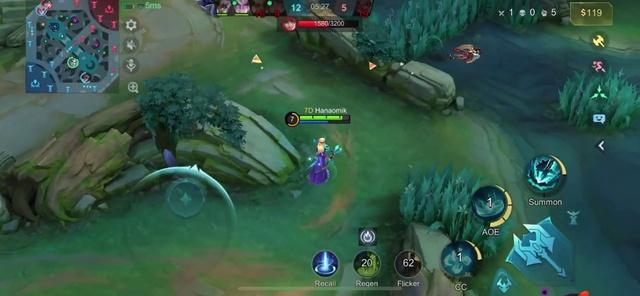Arbusto: (355, 0, 543, 62), (400, 164, 498, 254), (556, 70, 639, 130)
Exp_Aliado: (35, 4, 48, 16)
Exp_Enemigo: (40, 0, 55, 9)
HP_Heroe_Principal: (300, 115, 350, 121)
Jungla_Aliado: (80, 72, 93, 83)
Mana: (298, 121, 350, 124)
Mid_Aliado: (67, 56, 79, 69)
Minimapa: (26, 1, 121, 93)
Skill3: (526, 155, 565, 193)
Vexana: (306, 137, 341, 184)
